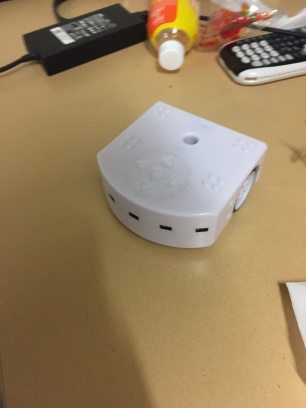thymio: (89, 98, 270, 254)
